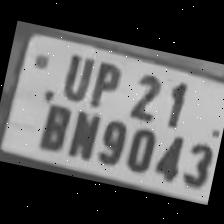0: (118, 118, 158, 173)
1: (156, 71, 196, 129)
2: (120, 64, 168, 120)
3: (176, 132, 218, 189)
4: (148, 124, 187, 182)
9: (90, 110, 130, 166)
B: (34, 95, 74, 153)
N: (62, 104, 103, 160)
P: (82, 54, 126, 110)
U: (54, 45, 96, 102)
